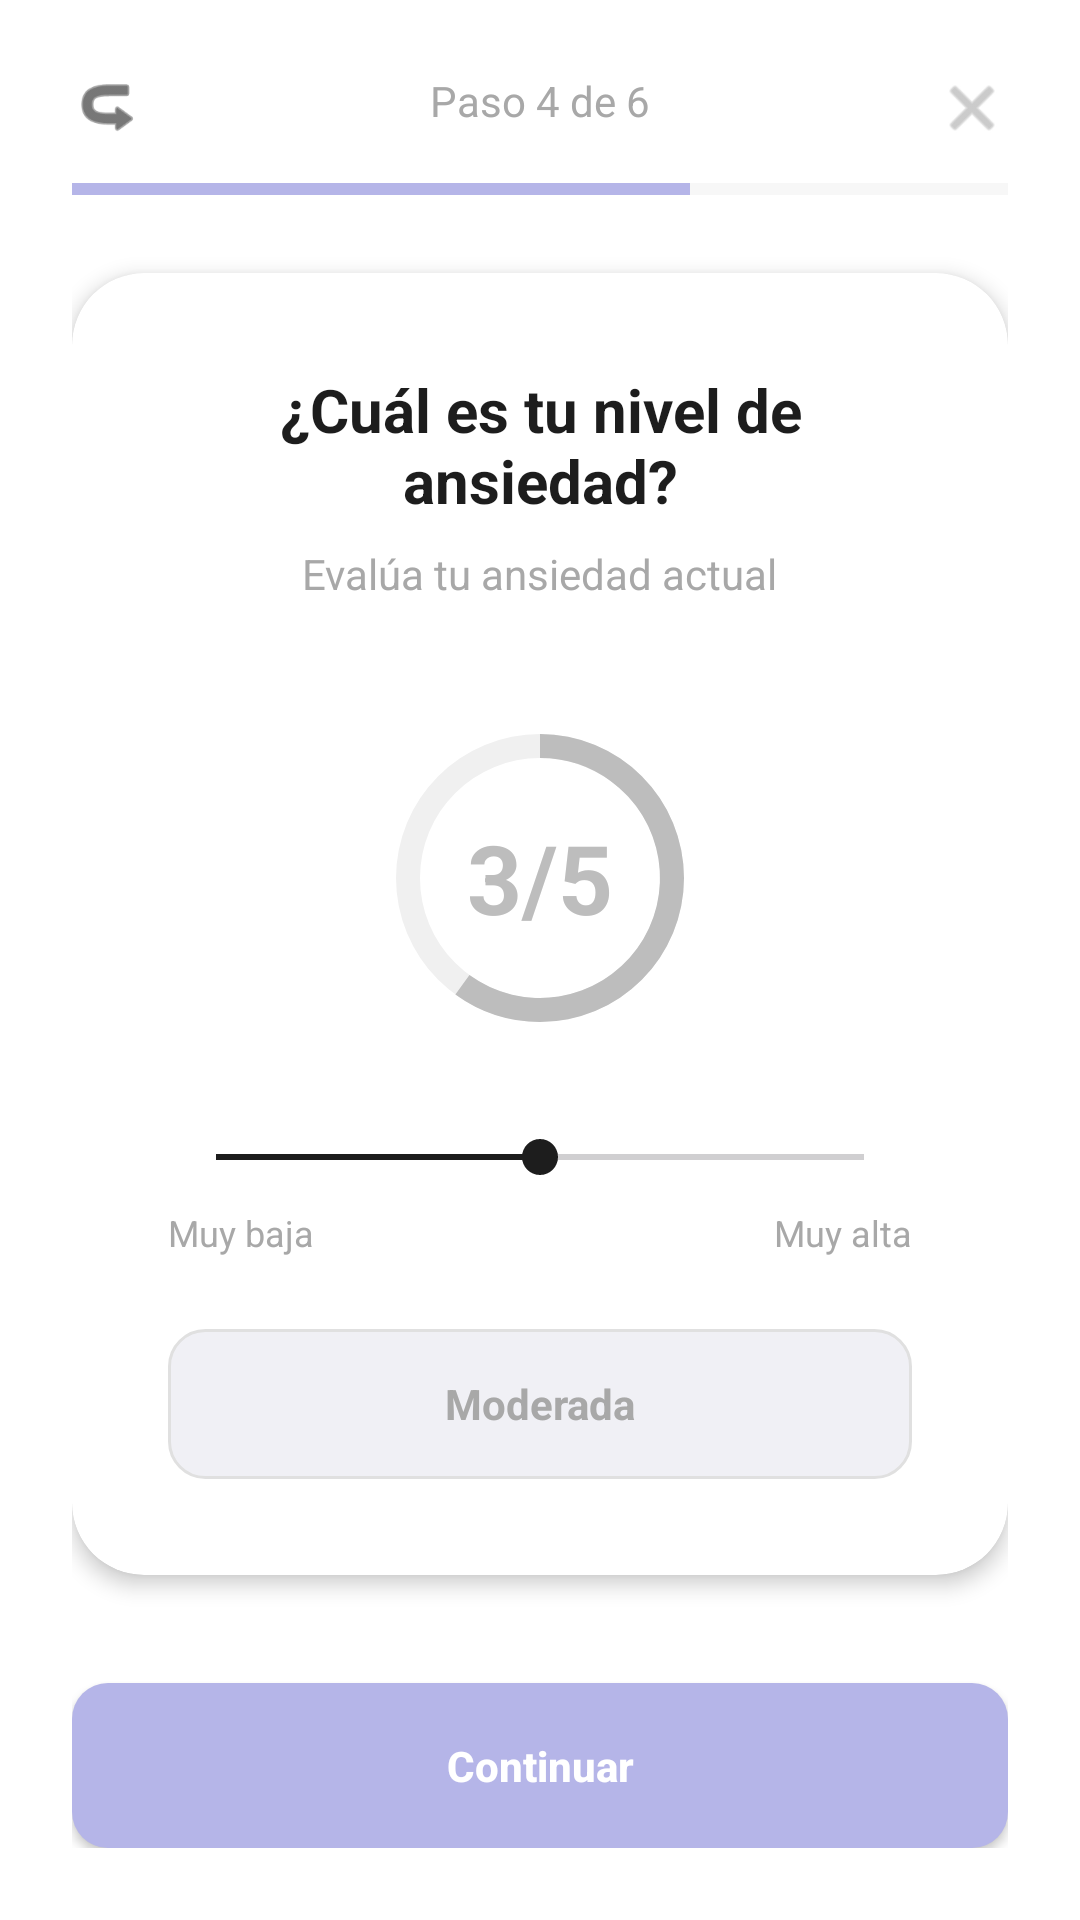

Named icons in this screenshot (1080*1920) and their centers, [x,y]:
close clear cancel: [972,108]
